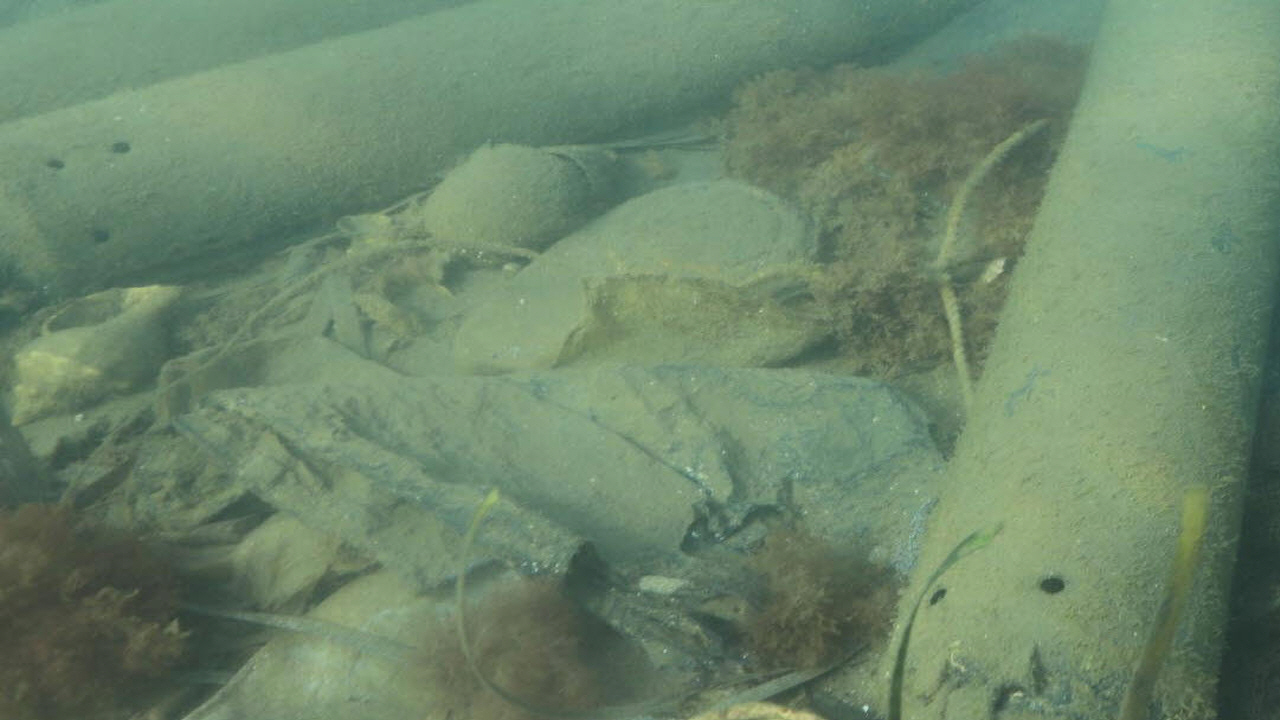eel fish trap: (0, 0, 962, 293), (900, 0, 1280, 720)
rope: (936, 119, 1048, 414)
